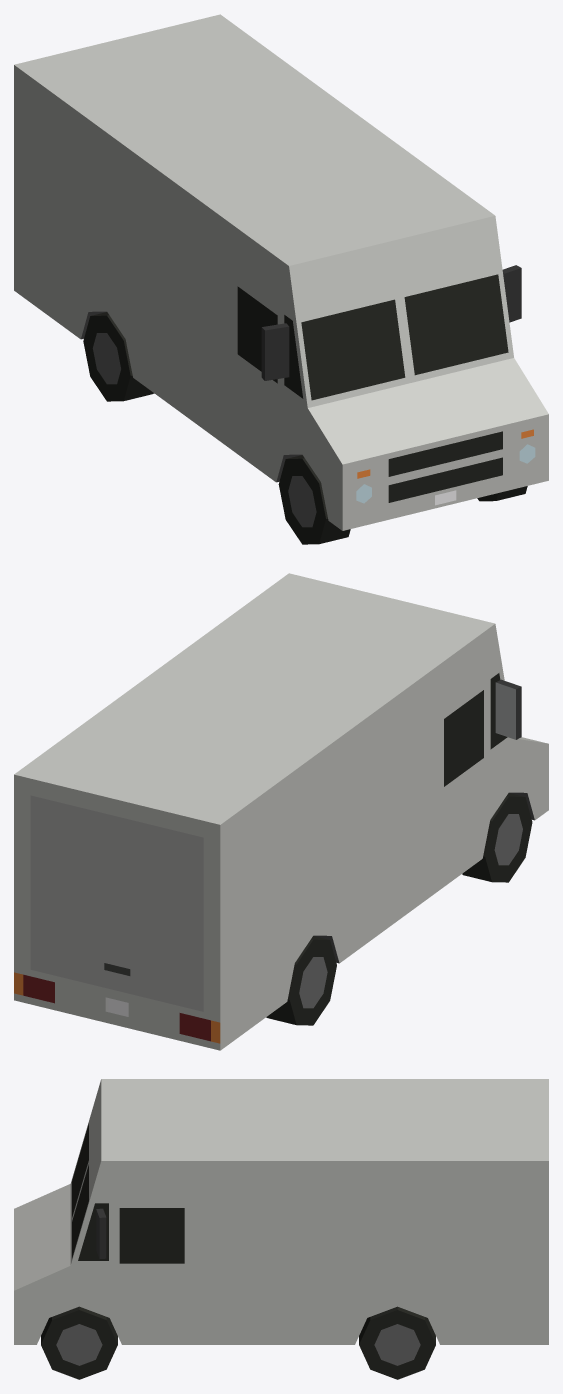
File: Veh_StepVan_01_White.glb
3 views of the same model, one above another, from view 1: azimuth 30°, elevation 25°; view 2: azimuth 150°, elevation 25°; view 3: azimuth 270°, elevation 25° (orthographic). The views are drawn at different scales.
Parts seen in each view (by area): view 1: StepVan_Default, Wheel_FR, Wheel_RR; view 2: StepVan_Default, Wheel_FR, Wheel_RR; view 3: StepVan_Default, Wheel_FL, Wheel_RL.
Boxes of the visible parts, <box> form: StepVan_Default: <box>14,14,548,530</box>; Wheel_FR: <box>278,455,350,544</box>; Wheel_RR: <box>83,312,154,401</box>; StepVan_Default: <box>14,573,548,1050</box>; Wheel_FR: <box>462,793,532,882</box>; Wheel_RR: <box>266,936,336,1025</box>; StepVan_Default: <box>14,1079,548,1344</box>; Wheel_FL: <box>41,1306,117,1379</box>; Wheel_RL: <box>359,1306,435,1379</box>.
Bounding box in the file's own units: 1.57 × 1.57 × 3.48.
1 material, 1 textured.
